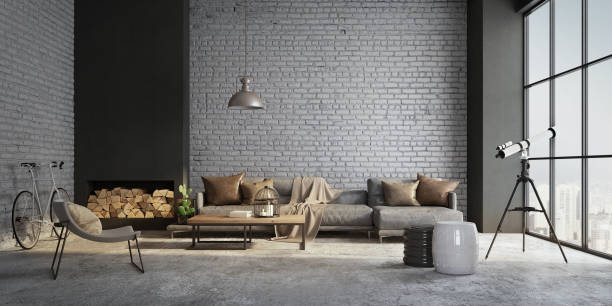chair: (49, 199, 147, 281)
sofa: (194, 172, 465, 245)
table: (186, 211, 307, 252)
